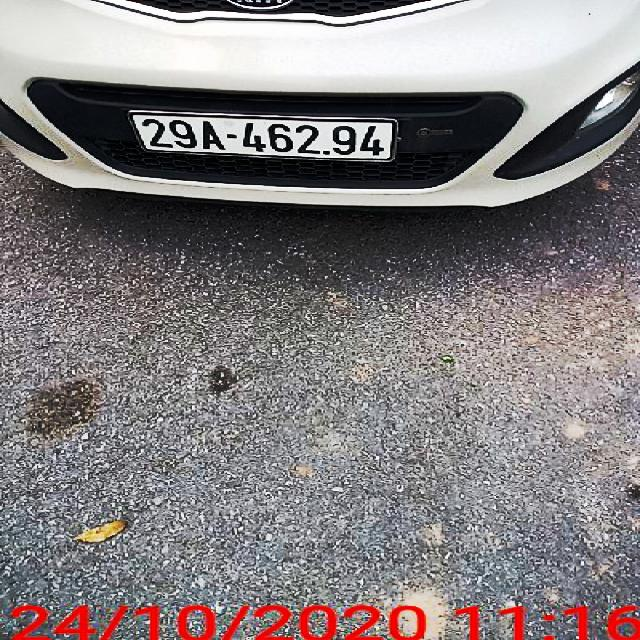license_plate: (128, 111, 399, 162)
